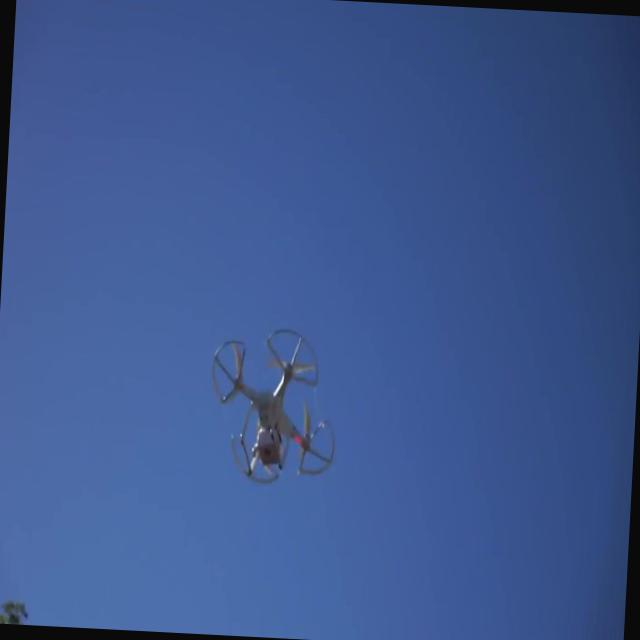drone: (204, 320, 344, 490)
